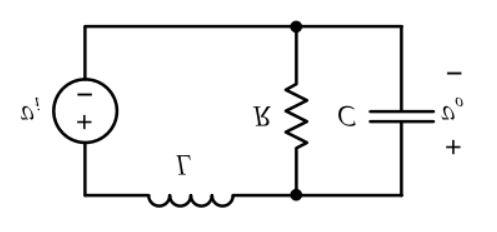inductor: (121, 184, 244, 224)
